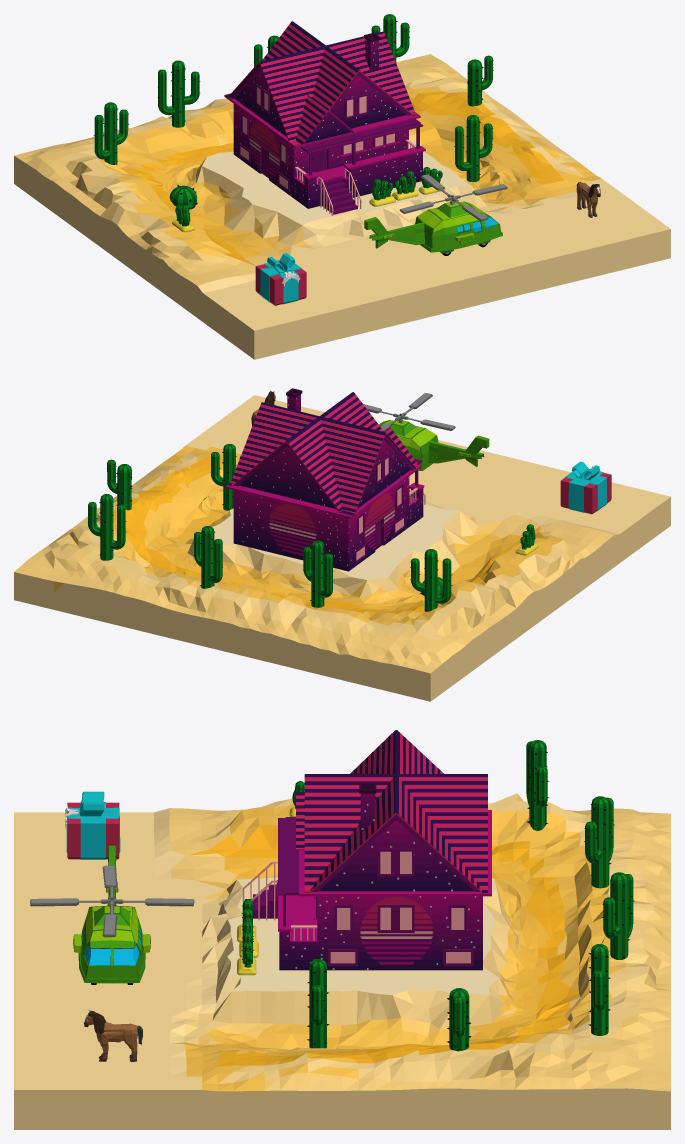
3 views of the same model, one above another, from view 1: azimuth 30°, elevation 25°; view 2: azimuth 150°, elevation 25°; view 3: azimuth 270°, elevation 25° (orthographic). The views are drawn at different scales.
Parts seen in each view (by area): view 1: Cube.001, Cube.156, VEHICLES_HELICOPTER, OBJRANDOM_GIANT_PRESENT, Cylinder.037, Cylinder.044, Cylinder.045, Cylinder.038, Cylinder.042, ANIMAL_CABALLO, Cylinder.039, Sphere.023 (+1 smaller); view 2: Cube.001, Cube.156, VEHICLES_HELICOPTER, OBJRANDOM_GIANT_PRESENT, Cylinder.042, Cylinder.045, Cylinder.044, Cylinder.043, Cylinder.037, Cylinder.038; view 3: Cube.001, Cube.156, VEHICLES_HELICOPTER, OBJRANDOM_GIANT_PRESENT, Cylinder.043, Cylinder.044, Cylinder.045, Cylinder.042, Cylinder.037, ANIMAL_CABALLO, Cylinder.038, Cylinder.041.
Part boxes in pixels (x1,y1,x2,y2): Cube.001: [14, 54, 670, 359]; Cube.156: [224, 21, 425, 215]; VEHICLES_HELICOPTER: [364, 174, 507, 255]; OBJRANDOM_GIANT_PRESENT: [255, 253, 306, 305]; Cylinder.037: [454, 115, 493, 182]; Cylinder.044: [157, 60, 200, 127]; Cylinder.045: [93, 102, 129, 164]; Cylinder.038: [467, 55, 493, 106]; Cylinder.042: [371, 14, 409, 62]; ANIMAL_CABALLO: [576, 182, 600, 217]; Cylinder.039: [369, 179, 395, 206]; Sphere.023: [169, 184, 197, 209]; Cube.001: [14, 395, 670, 701]; Cube.156: [225, 388, 425, 571]; VEHICLES_HELICOPTER: [363, 393, 489, 470]; OBJRANDOM_GIANT_PRESENT: [560, 461, 611, 514]; Cylinder.042: [88, 494, 126, 560]; Cylinder.045: [410, 549, 452, 611]; Cylinder.044: [303, 540, 333, 607]; Cylinder.043: [193, 526, 222, 588]; Cylinder.037: [211, 444, 240, 510]; Cylinder.038: [107, 459, 131, 510]; Cube.001: [14, 793, 670, 1129]; Cube.156: [242, 730, 491, 970]; VEHICLES_HELICOPTER: [30, 845, 194, 984]; OBJRANDOM_GIANT_PRESENT: [65, 791, 120, 859]; Cylinder.043: [602, 872, 634, 959]; Cylinder.044: [584, 796, 614, 888]; Cylinder.045: [526, 740, 549, 830]; Cylinder.042: [588, 944, 610, 1035]; Cylinder.037: [307, 959, 329, 1048]; ANIMAL_CABALLO: [84, 1010, 142, 1062]; Cylinder.038: [447, 988, 471, 1051]; Cylinder.041: [237, 932, 256, 975].
Size of the model in its own units: 4002 by 1627 by 4001.
33 materials, 4 textured.
